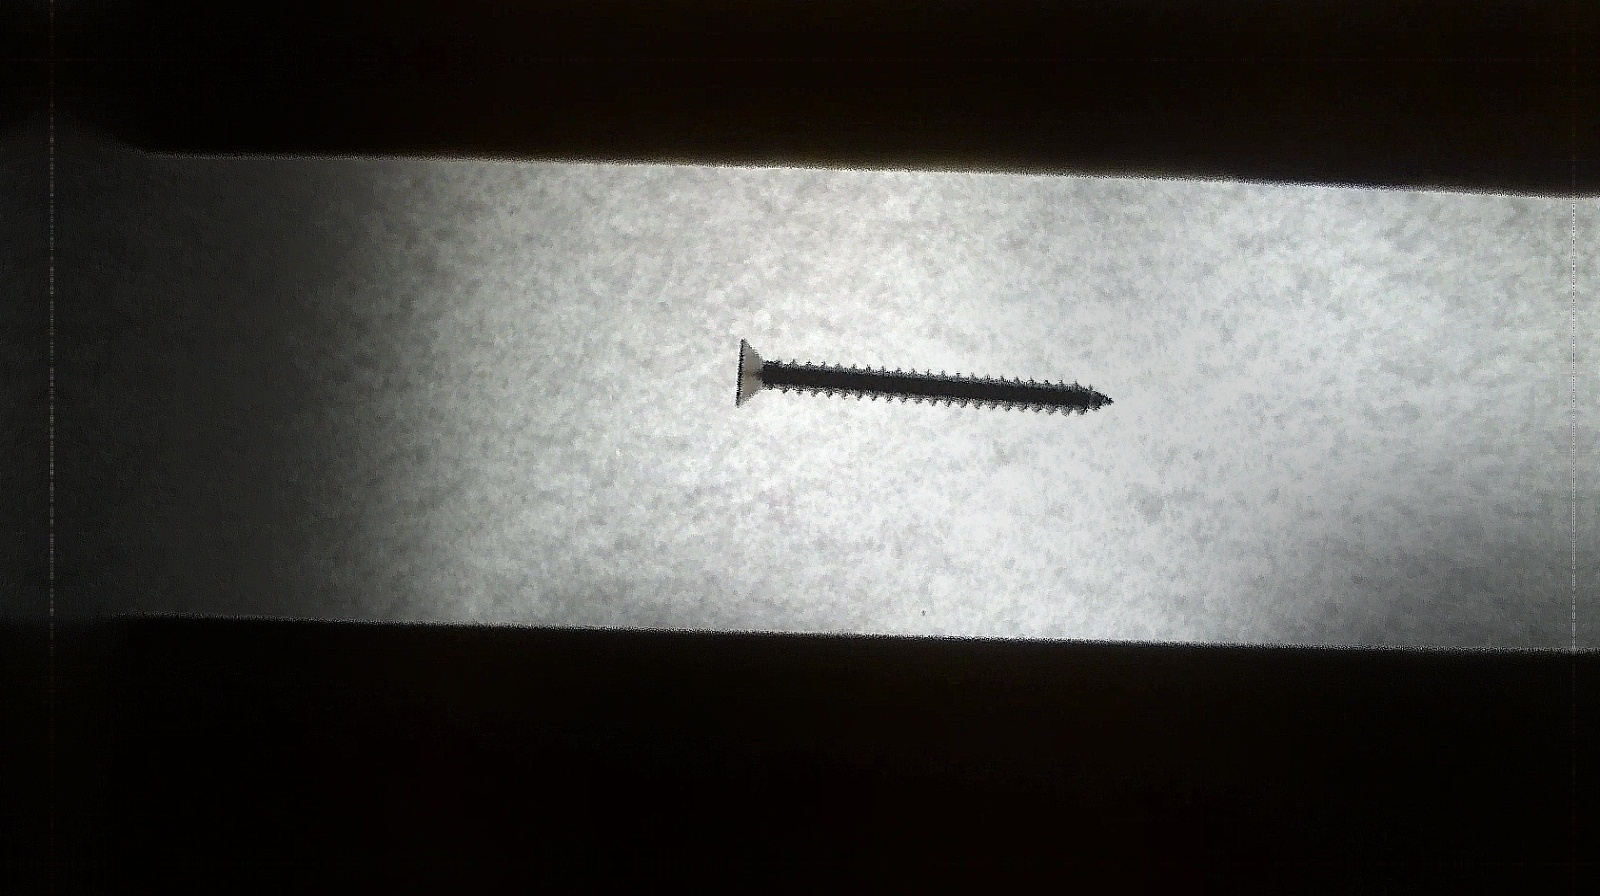S002: (725, 341, 1112, 418)
